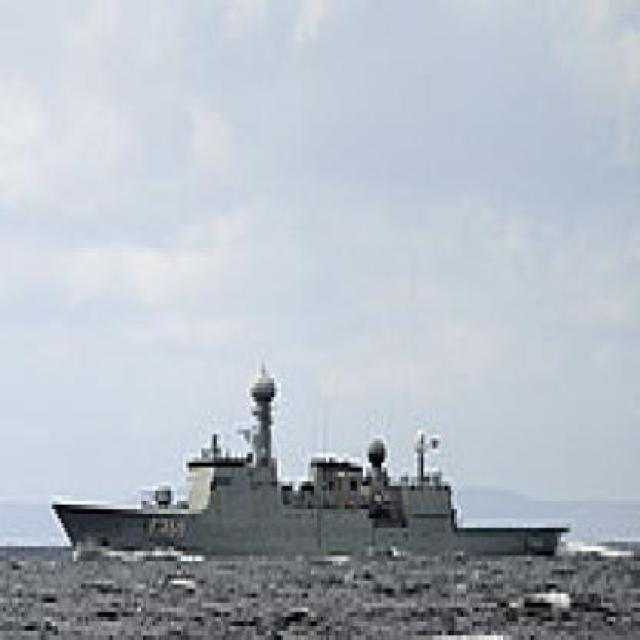warship2: (47, 351, 587, 562)
